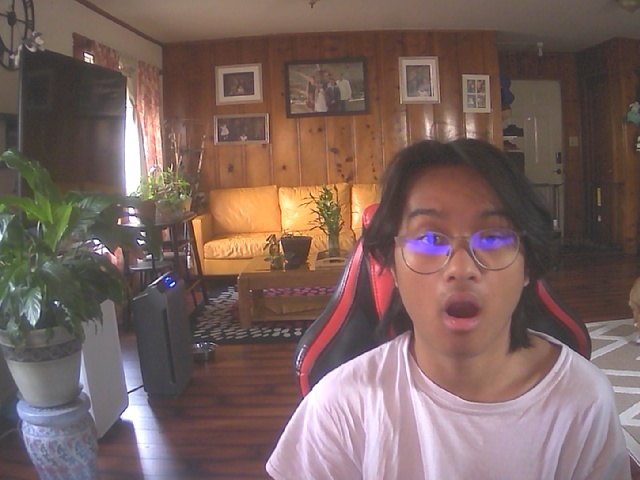fear: (384, 148, 538, 360)
